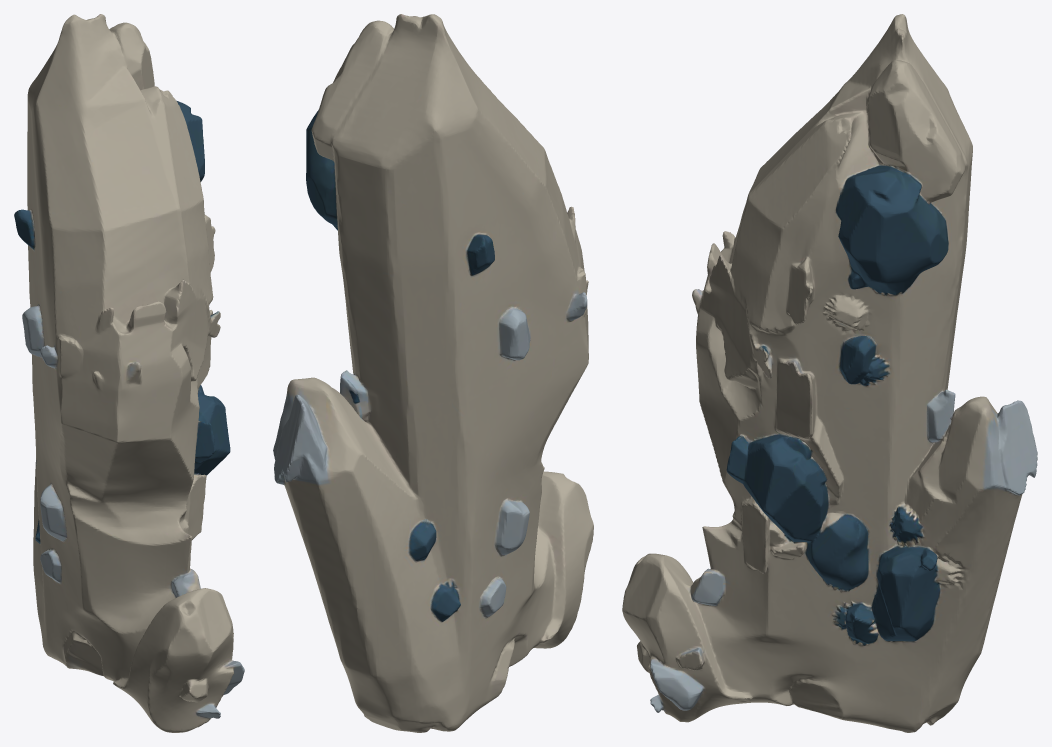
The model's file is ore.fbx.
3 renders of one model, left to right at view 1: azimuth 30°, elevation 25°; view 2: azimuth 150°, elevation 25°; view 3: azimuth 270°, elevation 25°, orthographic. The views are drawn at different scales.
Visible parts, largest first — view 1: tripo_node_4fdb26c9-0243-44c8-a40d-7943c80bfa5d; view 2: tripo_node_4fdb26c9-0243-44c8-a40d-7943c80bfa5d; view 3: tripo_node_4fdb26c9-0243-44c8-a40d-7943c80bfa5d.
Part boxes in pixels (<box>): tripo_node_4fdb26c9-0243-44c8-a40d-7943c80bfa5d: <box>14,14,244,732</box>; tripo_node_4fdb26c9-0243-44c8-a40d-7943c80bfa5d: <box>273,14,593,732</box>; tripo_node_4fdb26c9-0243-44c8-a40d-7943c80bfa5d: <box>622,14,1037,732</box>.
Bounding box in the file's own units: 32.33 × 98.18 × 52.94.
1 material, 1 textured.
